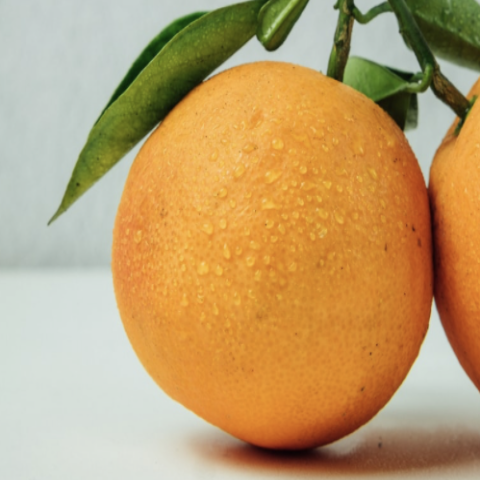orange: (80, 18, 468, 476)
